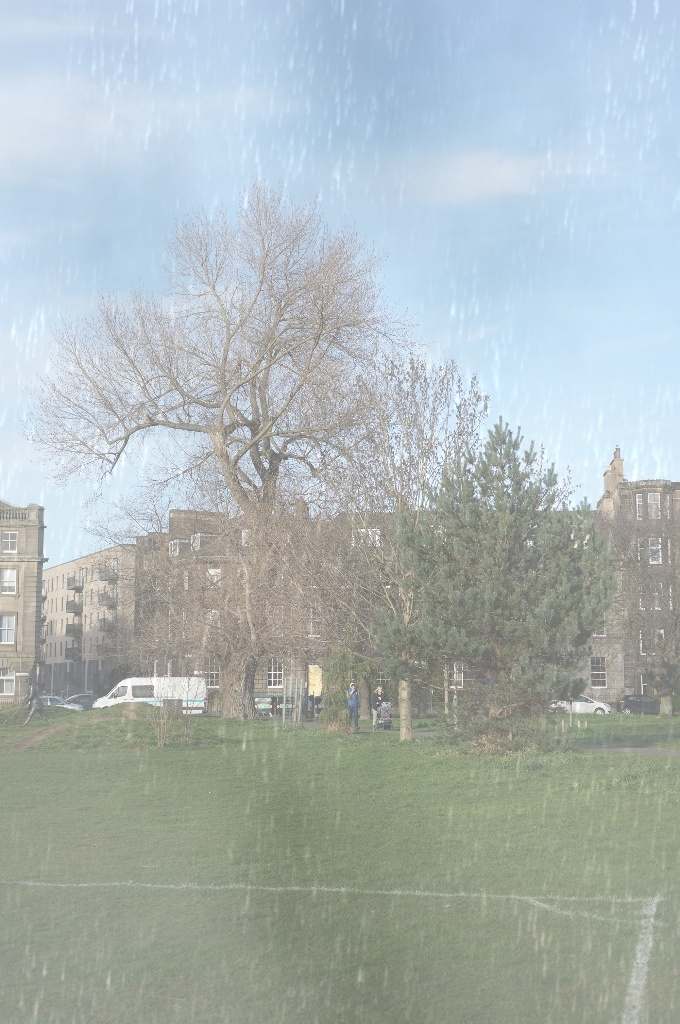Tree: (15, 170, 446, 737), (344, 396, 621, 804)
